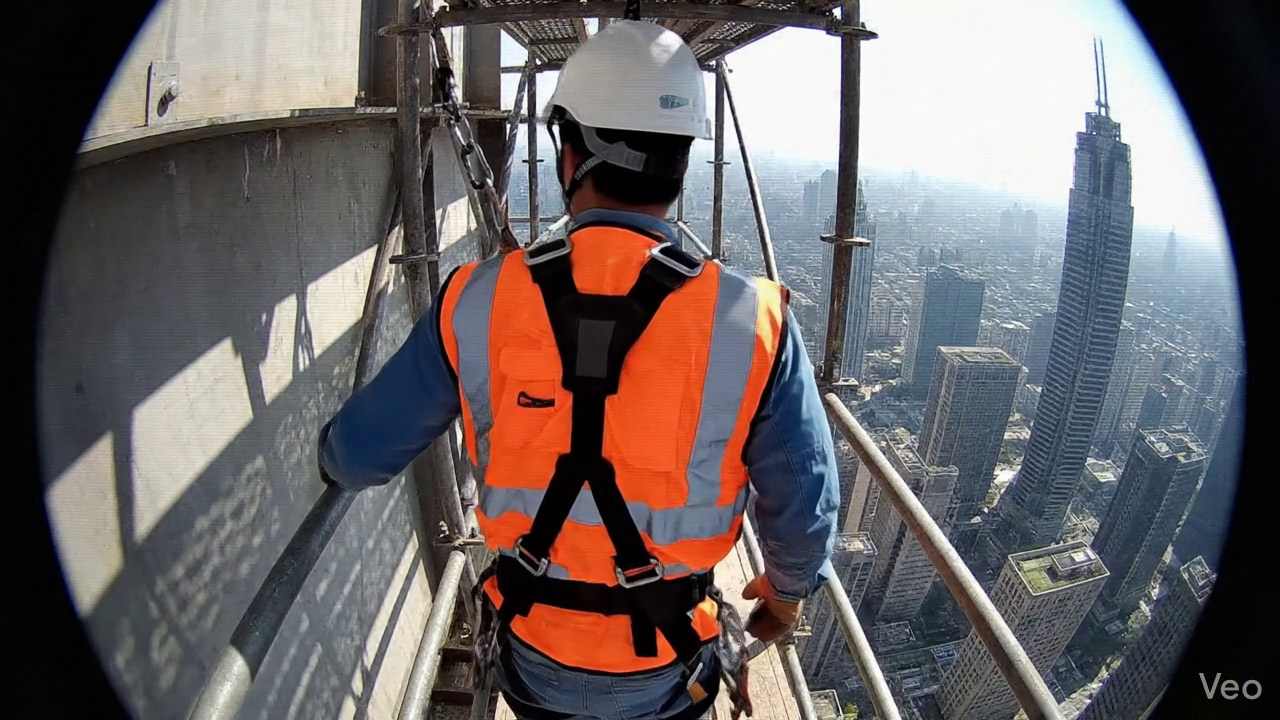person: (319, 20, 837, 719)
